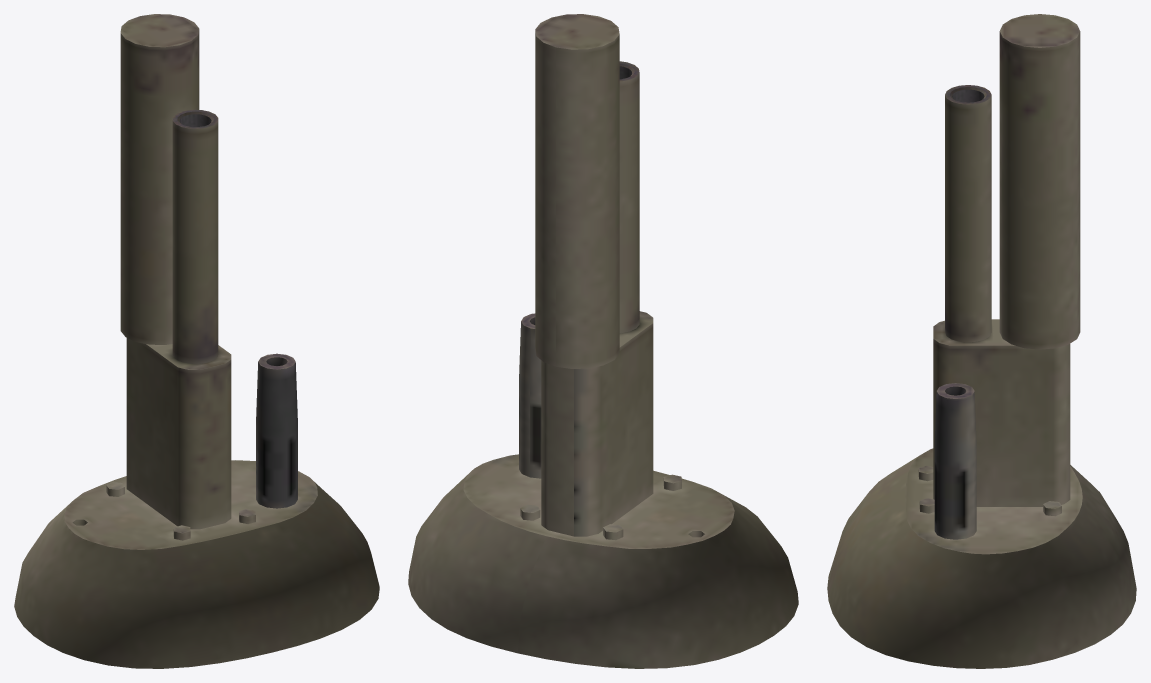
Rendered from Gun_04.glb.
3 views of the same model, side by side, from view 1: azimuth 30°, elevation 25°; view 2: azimuth 150°, elevation 25°; view 3: azimuth 270°, elevation 25° (orthographic). The views are drawn at different scales.
Visible parts, largest first — view 1: set_0_group_0; view 2: set_0_group_0; view 3: set_0_group_0.
Part boxes in pixels (x1,y1,x2,y2): set_0_group_0: (14, 14, 379, 668); set_0_group_0: (408, 14, 798, 668); set_0_group_0: (827, 14, 1136, 668).
Size of the model in its own units: 0.4313 by 0.6936 by 0.3511.
Materials: 1 (1 with a texture image).
